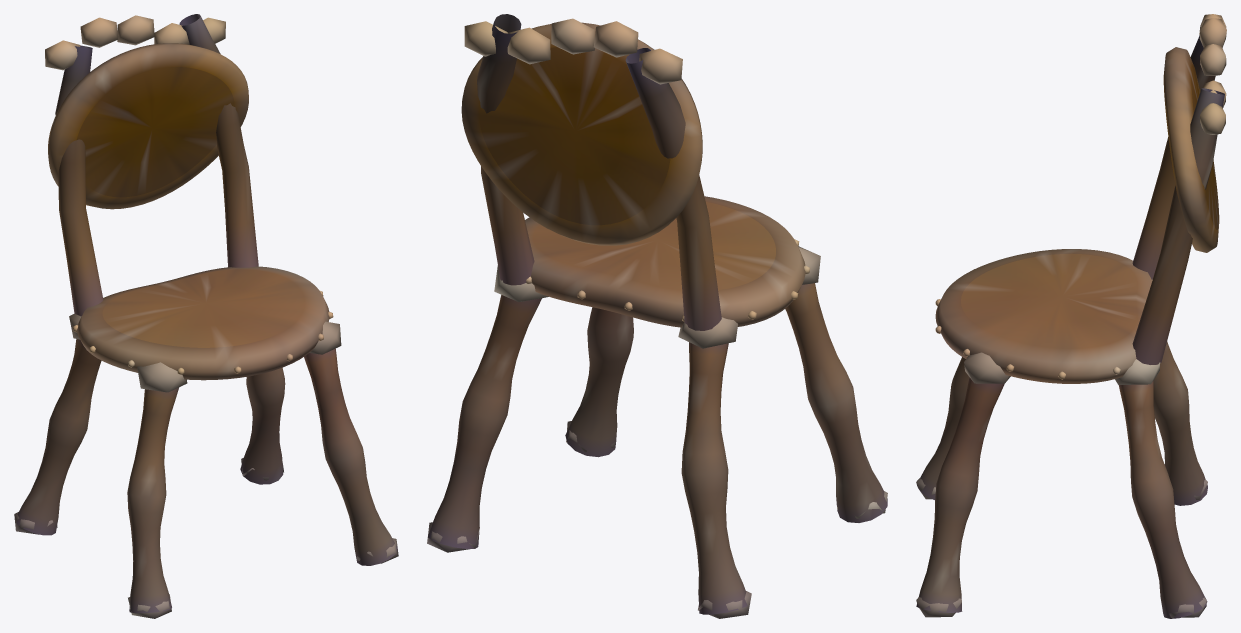
Rendered from gaudi_sandalye.glb.
3 renders of one model, left to right at view 1: azimuth 30°, elevation 25°; view 2: azimuth 150°, elevation 25°; view 3: azimuth 270°, elevation 25°, orthographic. The views are drawn at different scales.
Visible parts, largest first — view 1: gaudi_sandalye_LOD0; view 2: gaudi_sandalye_LOD0; view 3: gaudi_sandalye_LOD0.
Part boxes in pixels (x1,y1,x2,y2): gaudi_sandalye_LOD0: [14, 14, 398, 618]; gaudi_sandalye_LOD0: [427, 14, 887, 618]; gaudi_sandalye_LOD0: [916, 14, 1226, 618].
Size of what is drawn, in the model's own units: 0.5861 by 1.03 by 0.556.
